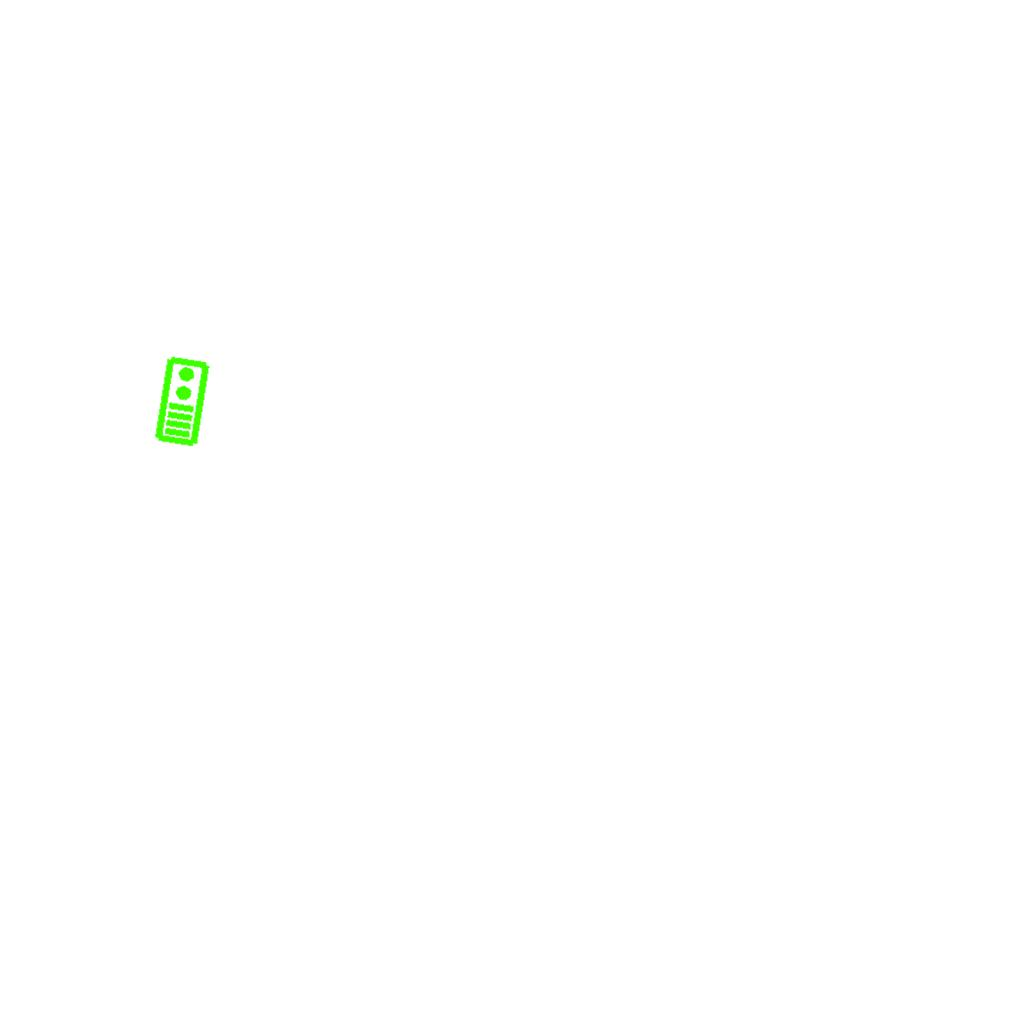Gegensprechanlage_mit_Video: (151, 353, 212, 449)
